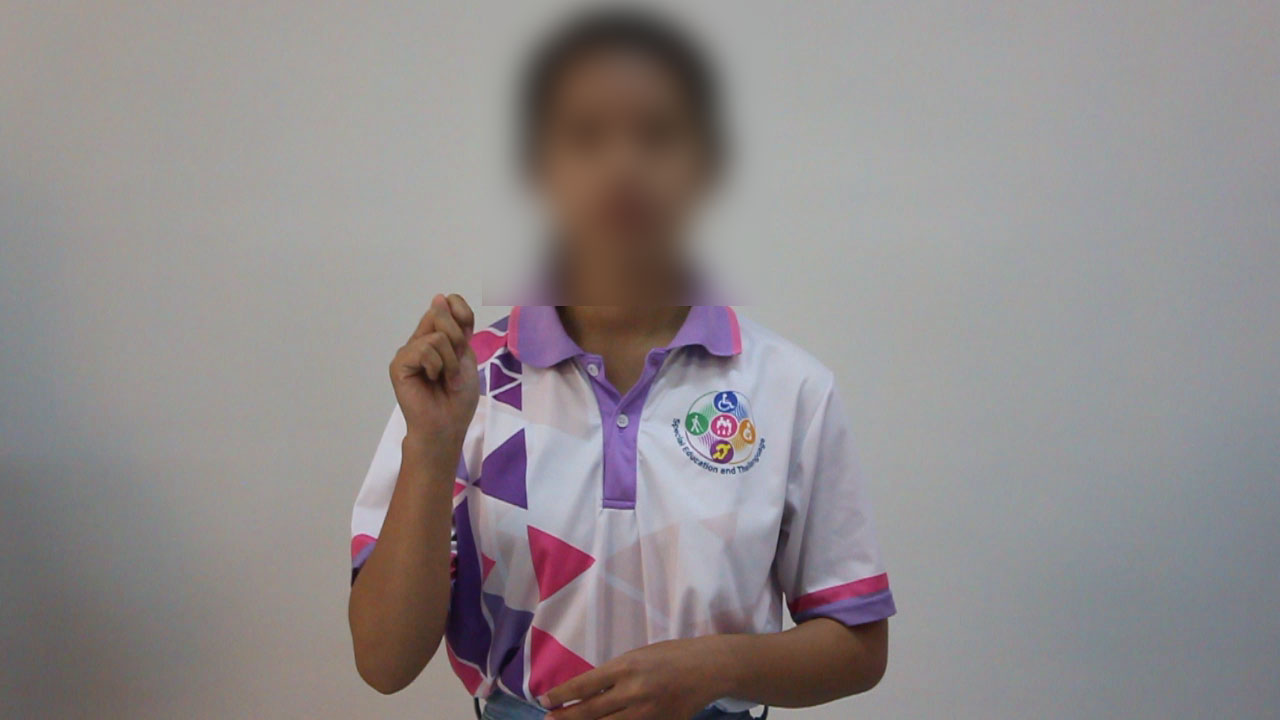tor: (371, 284, 514, 464)
